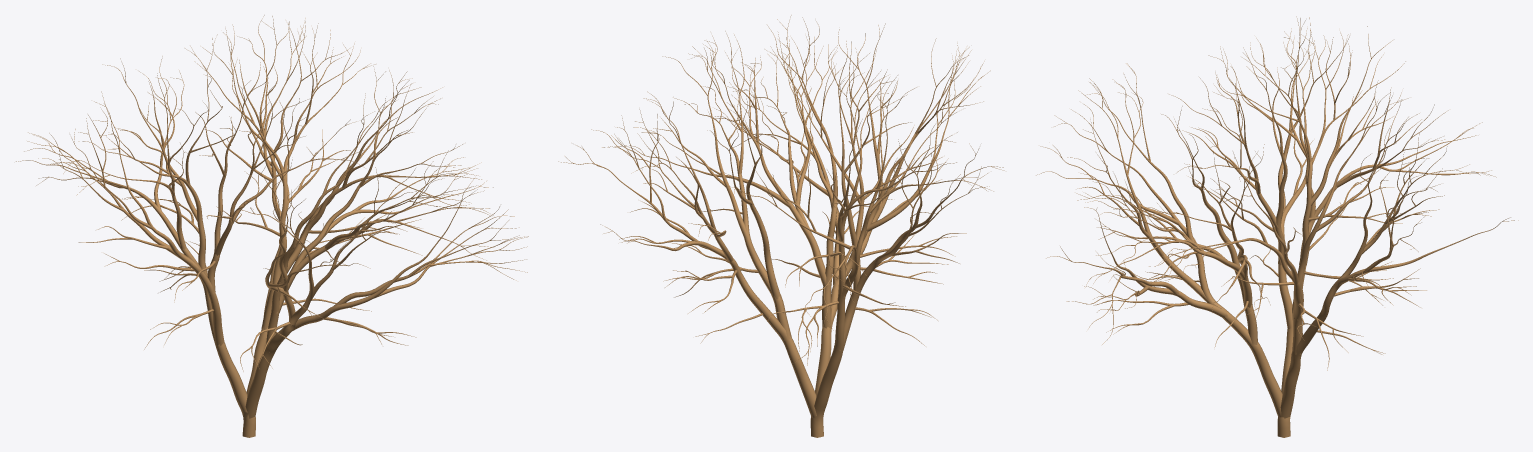
File: treeNew04.glb
3 views of the same model, side by side, from view 1: azimuth 30°, elevation 25°; view 2: azimuth 150°, elevation 25°; view 3: azimuth 270°, elevation 25° (orthographic).
Parts seen in each view (by area): view 1: tree; view 2: tree; view 3: tree.
Part boxes in pixels (<box>): tree: <box>16,15,528,437</box>; tree: <box>558,15,1004,437</box>; tree: <box>1036,16,1518,437</box>.
Bounding box in the file's own units: 9.66 × 8.72 × 10.13.
